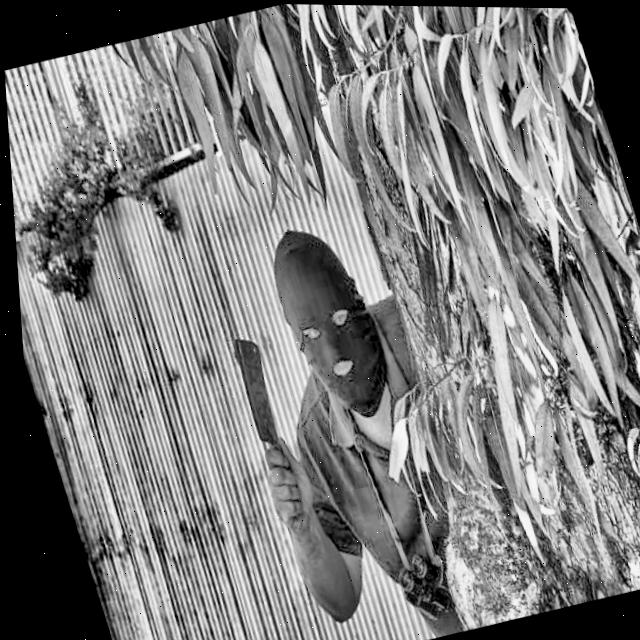robbery: (220, 214, 463, 640)
